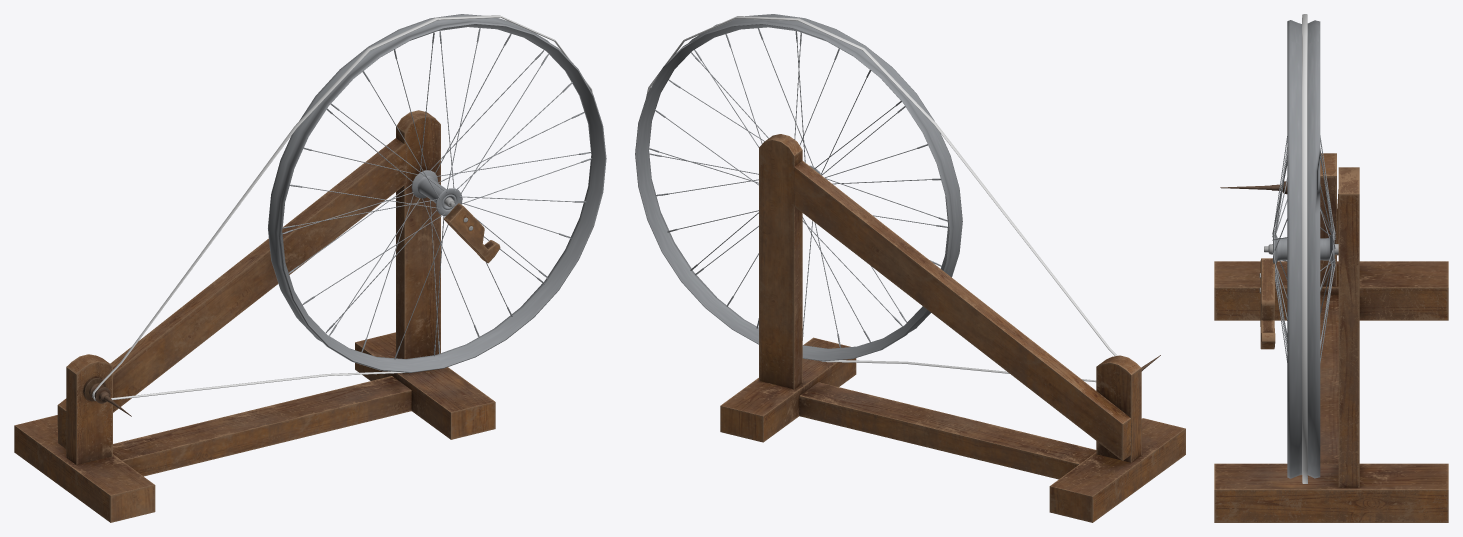
File: zenther.glb
The picture shows the model from 3 angles, left to right: view 1: azimuth 30°, elevation 25°; view 2: azimuth 150°, elevation 25°; view 3: azimuth 270°, elevation 25°; orthographic projection. The views are drawn at different scales.
Parts seen in each view (by area): view 1: pasted__pCube2, pasted__polySurface61, pasted__pCube3, pasted__pCube1, pasted__pCube6, pasted__pCube4, pasted__pCube5, pasted__polySurface60, pasted__pCube7, pasted__polySurface63; view 2: pasted__pCube2, pasted__polySurface61, pasted__pCube3, pasted__pCube1, pasted__pCube6, pasted__pCube4, pasted__pCube5, pasted__polySurface60; view 3: pasted__polySurface61, pasted__pCube4, pasted__pCube6, pasted__pCube1, pasted__pCube3, pasted__polySurface60, pasted__pCube5, pasted__pCube7, pasted__polySurface63, pasted__polySurface59.
Part boxes in pixels (x1,y1,x2,y2): pasted__pCube2: (57,138,406,448); pasted__polySurface61: (268,14,606,372); pasted__pCube3: (113,376,411,476); pasted__pCube1: (396,110,440,373); pasted__pCube6: (14,415,155,522); pasted__pCube4: (355,332,495,439); pasted__pCube5: (66,354,112,464); pasted__polySurface60: (92,15,592,400); pasted__pCube7: (443,203,500,263); pasted__polySurface63: (411,170,462,216); pasted__pCube2: (794,160,1131,460); pasted__polySurface61: (635,14,962,361); pasted__pCube3: (799,382,1096,479); pasted__pCube1: (759,134,802,389); pasted__pCube6: (1049,418,1185,522); pasted__pCube4: (720,337,856,442); pasted__pCube5: (1096,355,1141,462); pasted__polySurface60: (635,16,1117,382); pasted__polySurface61: (1287,20,1320,478); pasted__pCube4: (1214,463,1448,522); pasted__pCube6: (1214,261,1448,320); pasted__pCube1: (1338,167,1359,487); pasted__pCube3: (1320,295,1338,463); pasted__polySurface60: (1302,14,1307,483); pasted__pCube5: (1320,153,1336,286); pasted__pCube7: (1260,258,1275,349); pasted__polySurface63: (1273,231,1334,267); pasted__polySurface59: (1220,181,1287,194).
Size of the model in its own units: 0.2342 by 0.164 by 0.0735.
4 materials, 3 textured.
